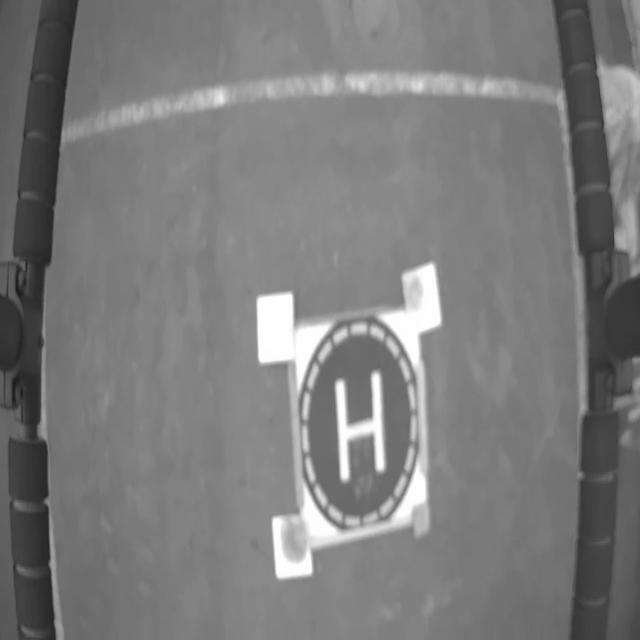Helipad: (334, 369, 387, 485)
